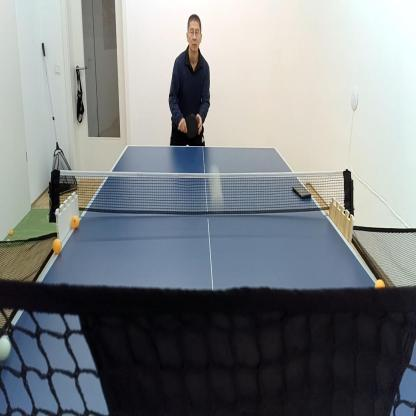Ball: (207, 161, 226, 217), (0, 331, 12, 365), (51, 236, 63, 256), (372, 275, 386, 292), (69, 213, 81, 231), (8, 227, 14, 237), (6, 237, 12, 247)
